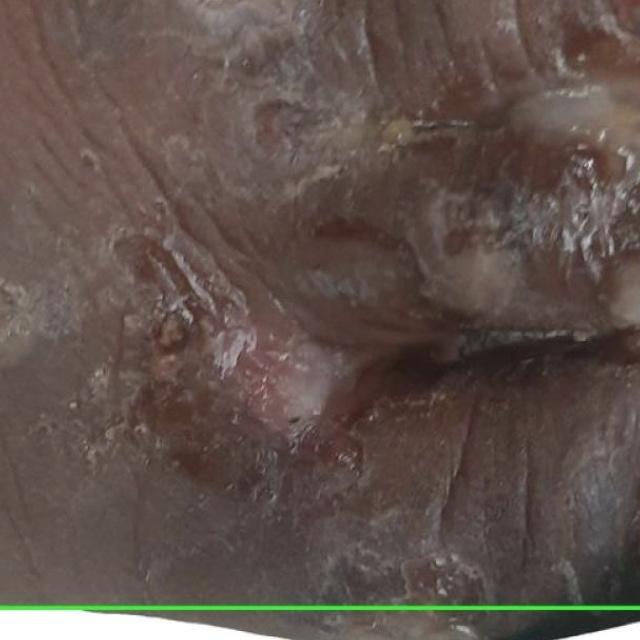Eczema: (0, 607, 639, 639)
